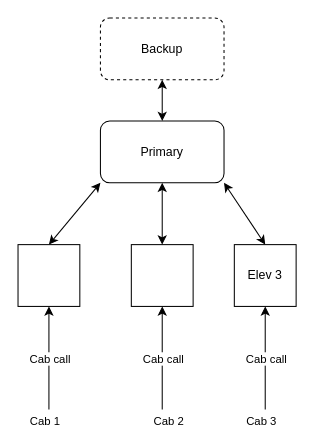
This 314x448 diagram has some shape labels left out. The shapes that lost their labels are listed below. From the top down, each one's box as (x1, y1, x2, y2) in pixels, then its label:
(17, 244, 80, 306): Elev 1
(130, 244, 193, 306): Elev 2
